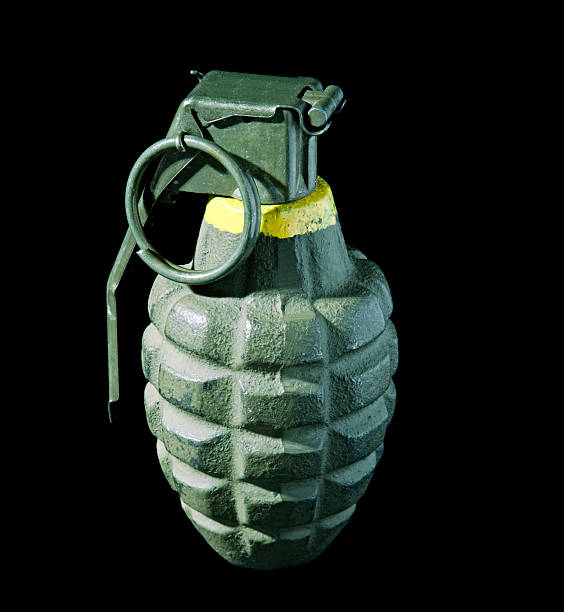e1: (97, 65, 404, 574)
